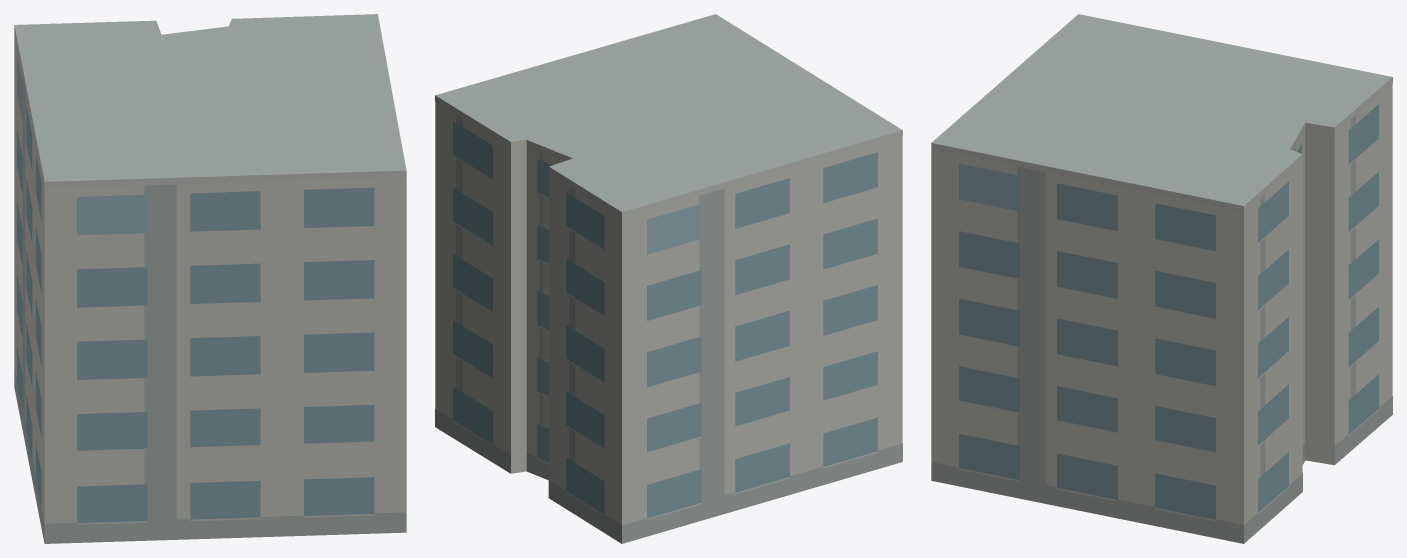
File: survey-upis-32890058.glb
3 renders of one model, left to right at view 1: azimuth 30°, elevation 25°; view 2: azimuth 150°, elevation 25°; view 3: azimuth 270°, elevation 25°, orthographic. The views are drawn at different scales.
Parts seen in each view (by area): view 1: survey-upis-32890058.tmp; view 2: survey-upis-32890058.tmp; view 3: survey-upis-32890058.tmp.
Part boxes in pixels (x1,y1,x2,y2): survey-upis-32890058.tmp: [14, 14, 406, 543]; survey-upis-32890058.tmp: [435, 14, 902, 543]; survey-upis-32890058.tmp: [931, 14, 1392, 543].
Bounding box in the file's own units: 15.86 × 13 × 16.1.
